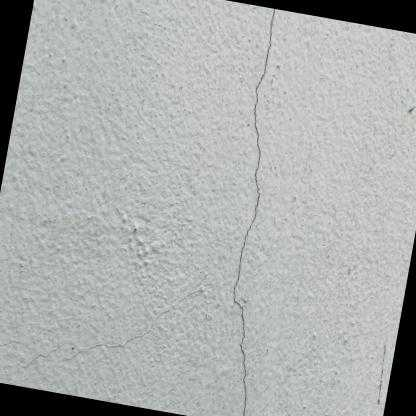crack: (229, 8, 277, 416)
